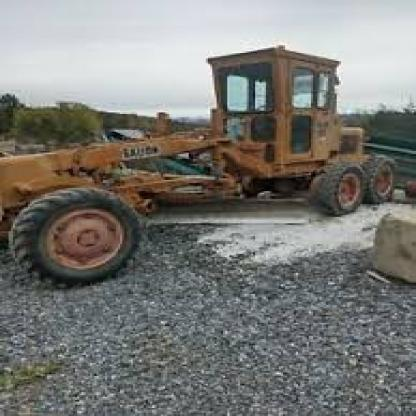bull_dozer/loader/grader: (11, 31, 392, 280)
